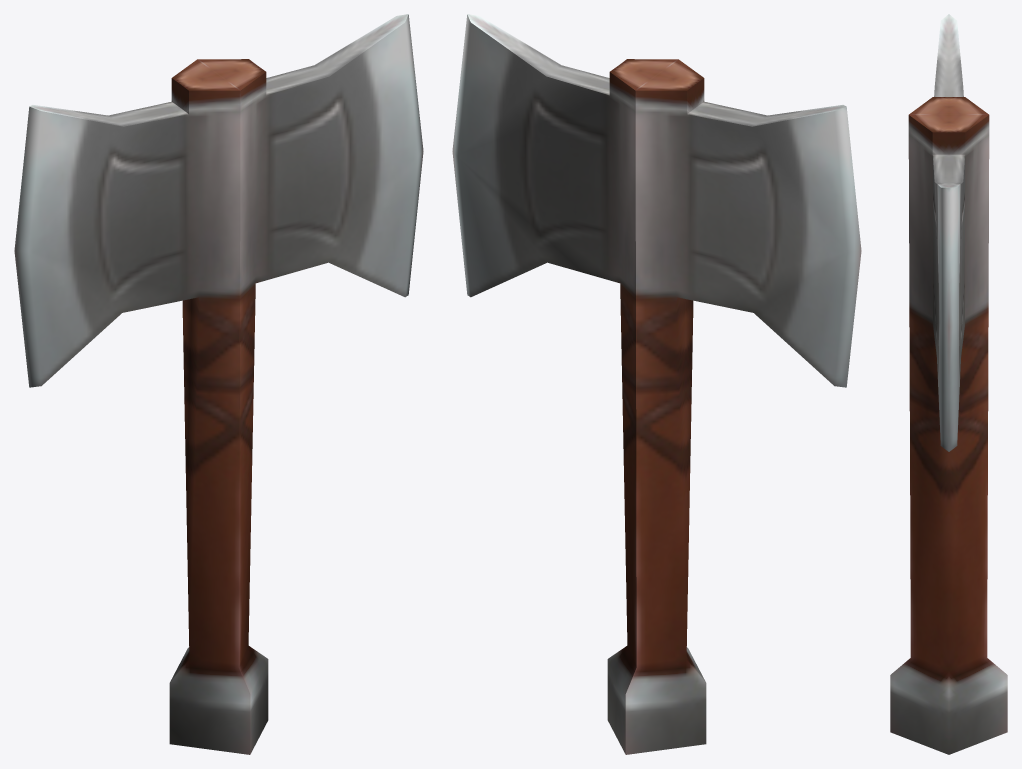
The model's file is futou.FBX.
3 renders of one model, left to right at view 1: azimuth 30°, elevation 25°; view 2: azimuth 150°, elevation 25°; view 3: azimuth 270°, elevation 25°, orthographic. The views are drawn at different scales.
Visible parts, largest first — view 1: futou; view 2: futou; view 3: futou.
Boxes of the visible parts, x1=… form: futou: x1=14, y1=14, x2=423, y2=754; futou: x1=452, y1=14, x2=861, y2=754; futou: x1=890, y1=14, x2=1007, y2=754.
Size of the model in its own units: 42.59 by 66.84 by 11.26.
Materials: 1 (1 with a texture image).
